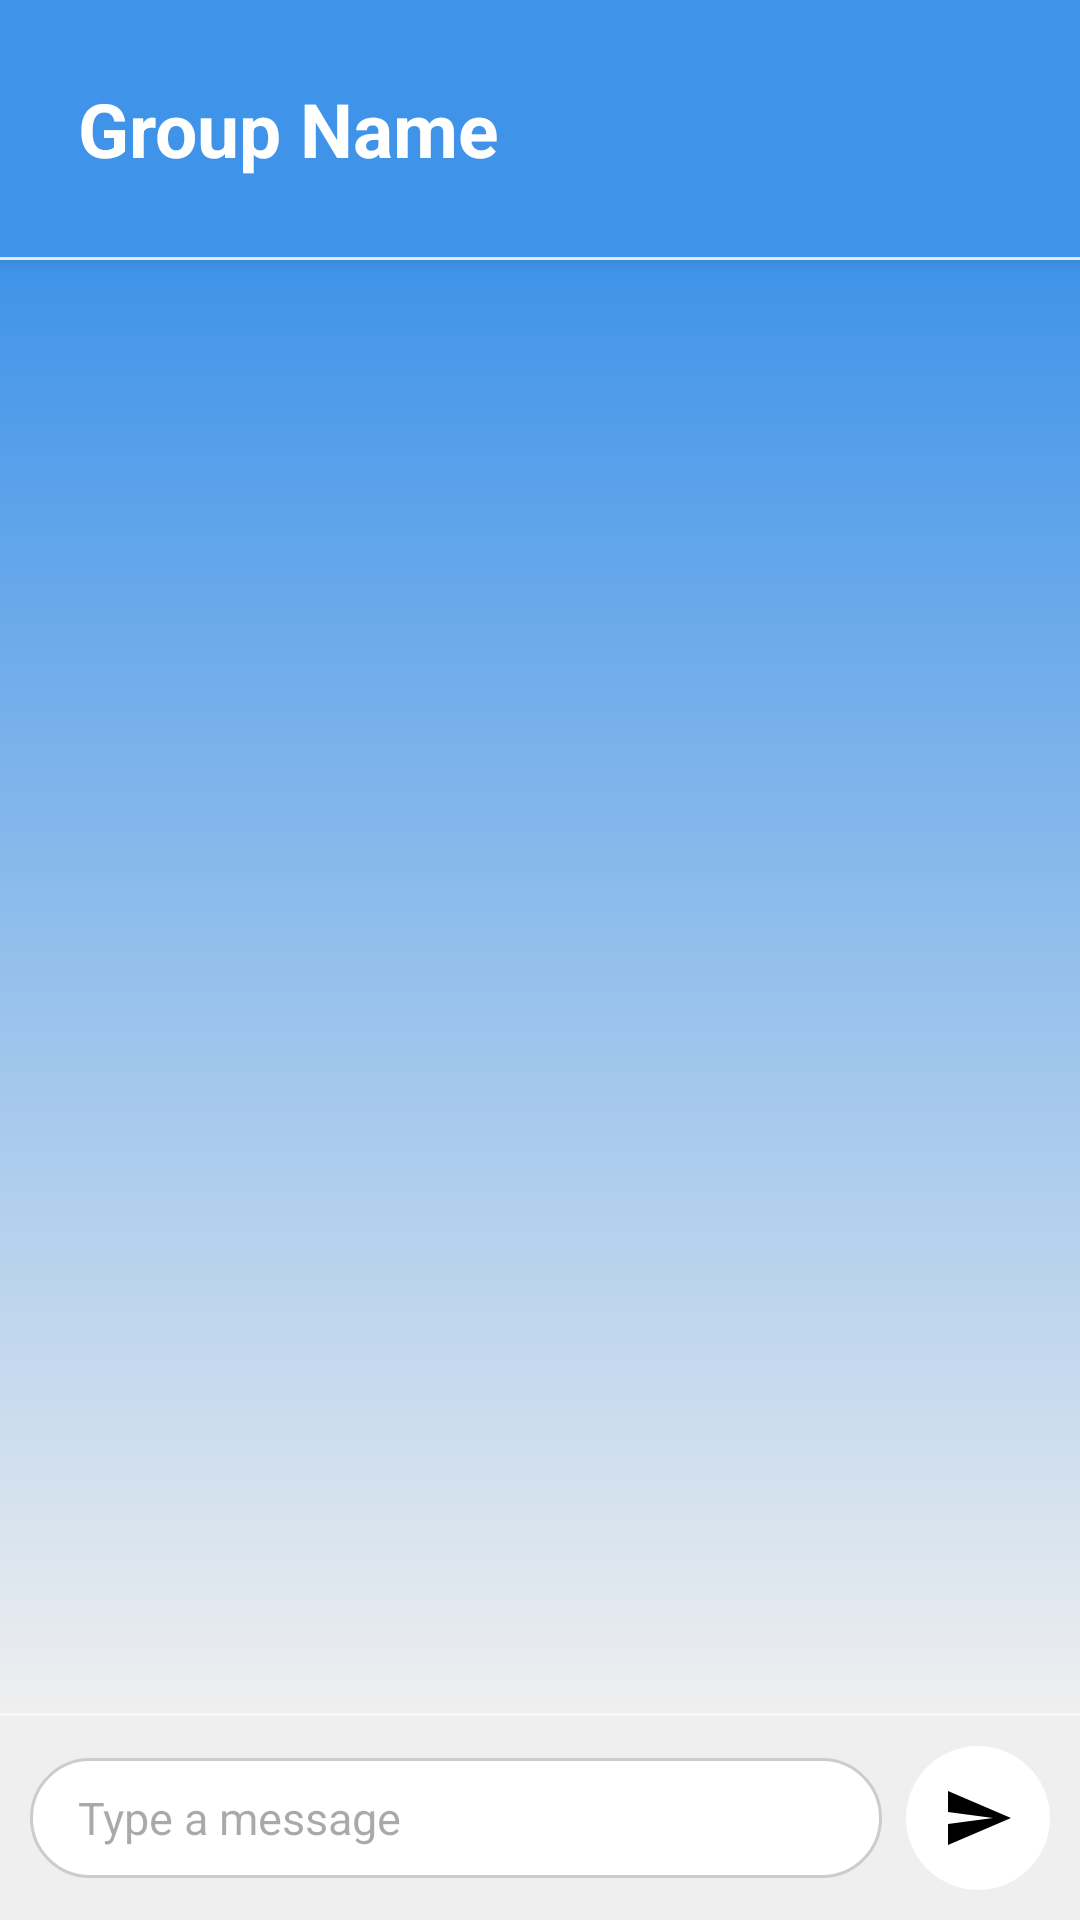

Icons on this 1080w x 1920h Android screen, each with the point to tap as [x,y]:
Send: [978,1818]
